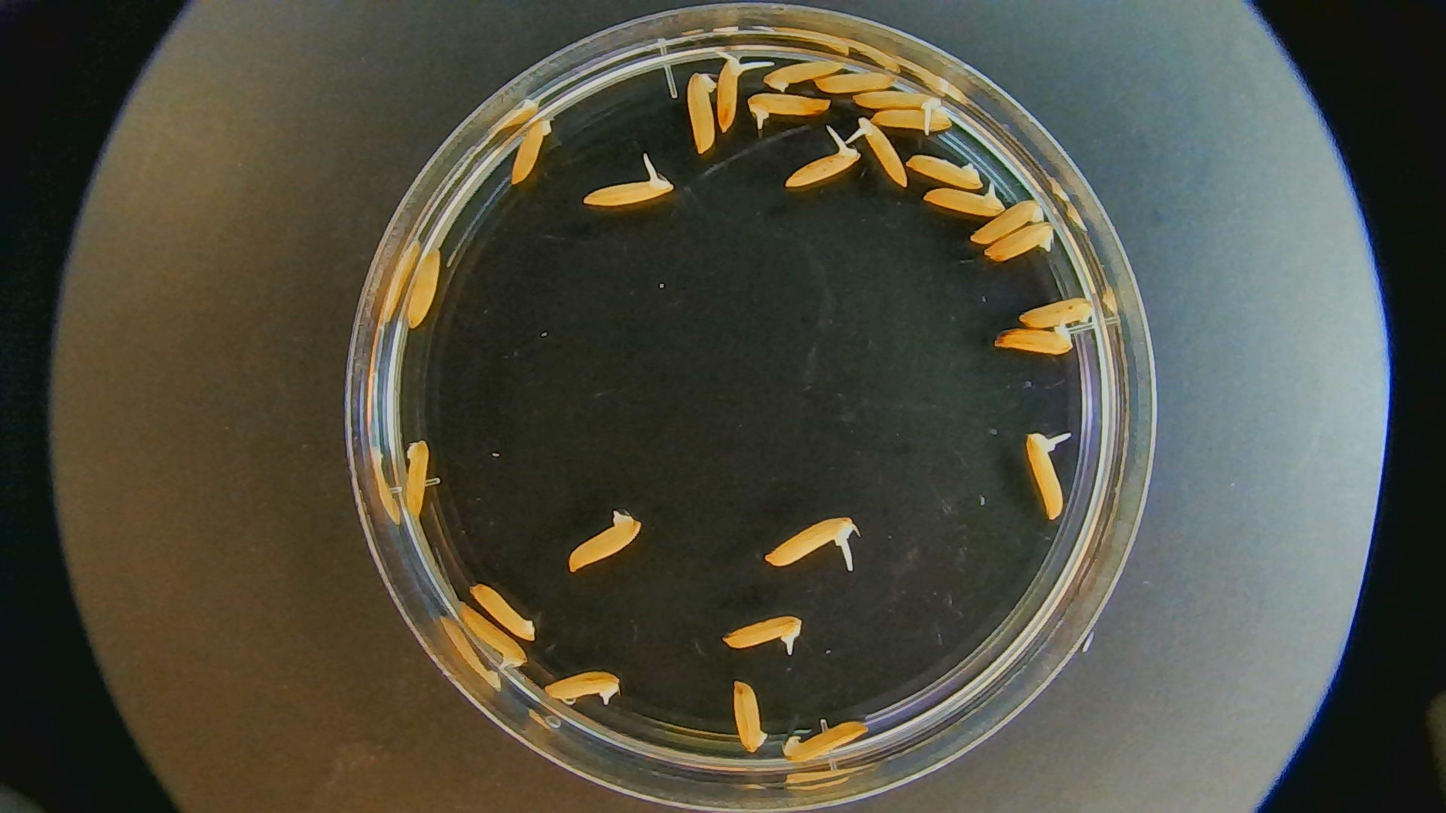no: (443, 599, 526, 675), (460, 582, 538, 642), (565, 513, 638, 575), (781, 721, 873, 765), (395, 431, 437, 526), (401, 242, 444, 332), (965, 197, 1049, 242), (808, 64, 900, 102), (540, 667, 627, 706), (752, 56, 843, 93), (727, 676, 769, 755), (510, 115, 554, 190), (985, 222, 1060, 263), (901, 154, 986, 190), (1014, 296, 1098, 330), (684, 66, 715, 154), (865, 107, 957, 136), (992, 326, 1078, 356)
yes: (833, 111, 912, 201), (764, 512, 853, 569), (849, 84, 948, 134), (1019, 428, 1071, 522), (715, 48, 767, 136), (920, 177, 1010, 219), (784, 145, 862, 192), (742, 90, 830, 131), (581, 175, 671, 213), (722, 615, 800, 652)
